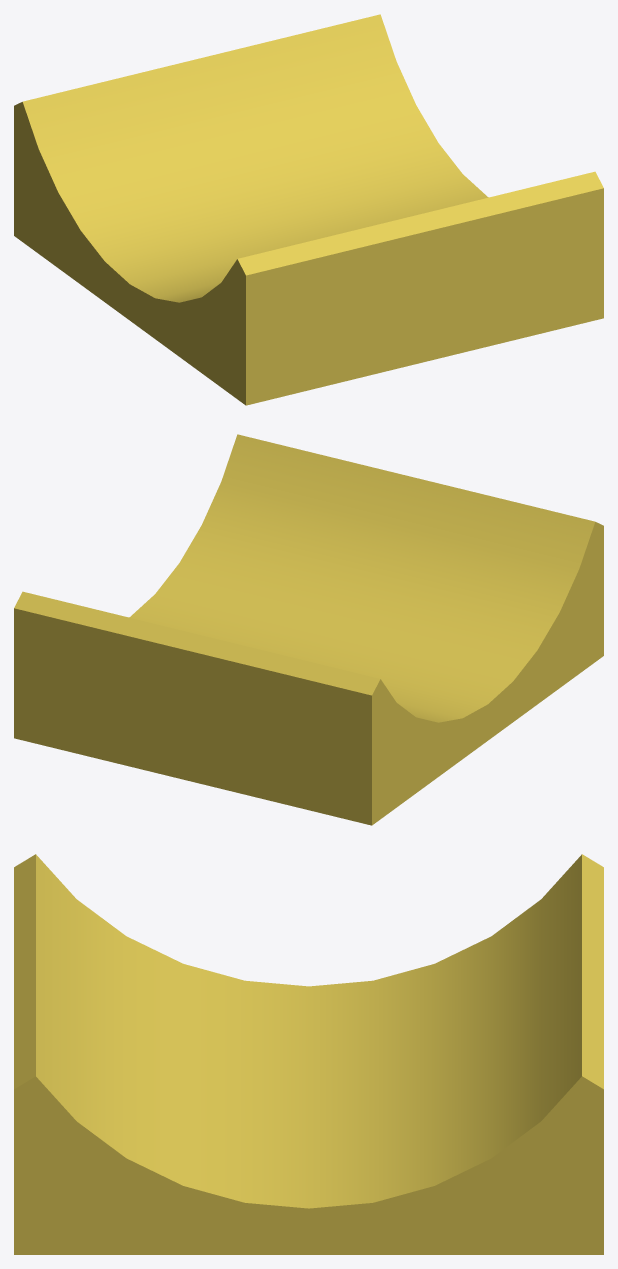
The model's file is RoundCorr_UnderFloor_A.FBX.
3 renders of one model, top to bottom at view 1: azimuth 30°, elevation 25°; view 2: azimuth 150°, elevation 25°; view 3: azimuth 270°, elevation 25°, orthographic. The views are drawn at different scales.
Parts seen in each view (by area): view 1: RoundCorr_UnderFloor_A; view 2: RoundCorr_UnderFloor_A; view 3: RoundCorr_UnderFloor_A.
Part boxes in pixels (bbox=[...]): RoundCorr_UnderFloor_A: bbox=[14, 14, 603, 405]; RoundCorr_UnderFloor_A: bbox=[14, 434, 603, 825]; RoundCorr_UnderFloor_A: bbox=[14, 854, 603, 1254].
Bounding box in the file's own units: 400 × 150 × 449.
